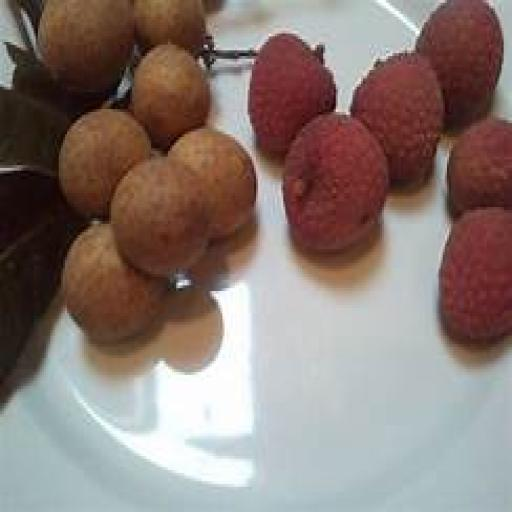lychee: (284, 115, 388, 251), (63, 224, 167, 341), (351, 54, 444, 184), (112, 157, 209, 276), (416, 0, 503, 125), (248, 34, 335, 156), (59, 110, 151, 218), (170, 129, 258, 240), (441, 208, 511, 341), (133, 45, 209, 148), (447, 118, 511, 212)
